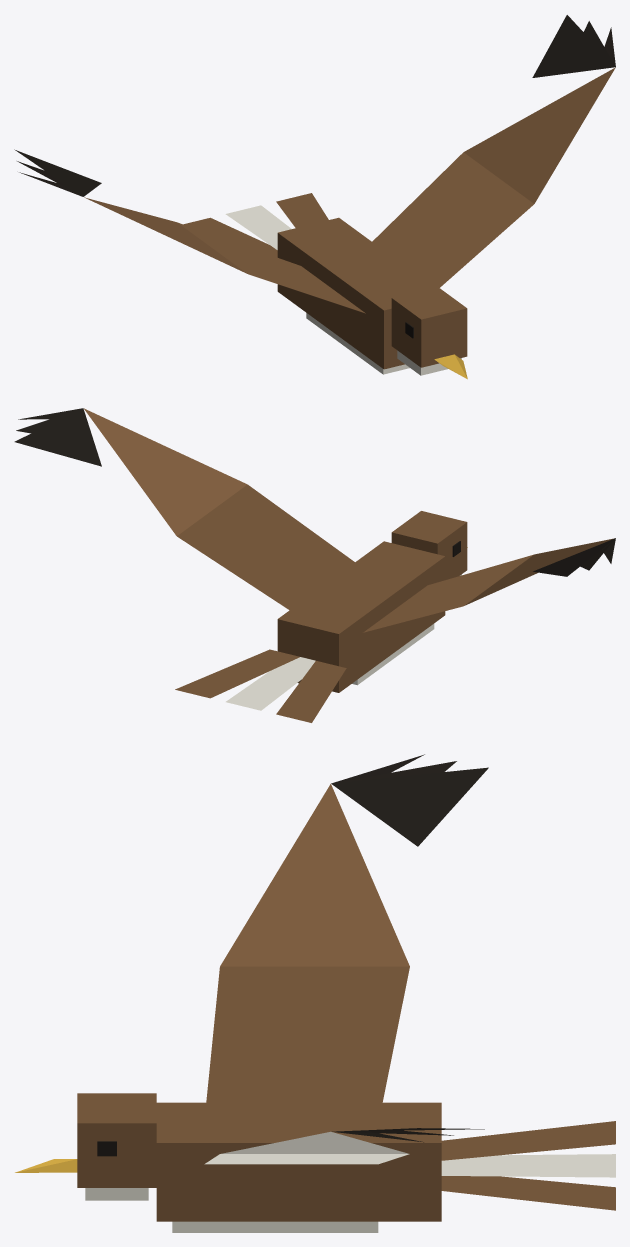
The model's file is hawk_up.glb.
3 views of the same model, one above another, from view 1: azimuth 30°, elevation 25°; view 2: azimuth 150°, elevation 25°; view 3: azimuth 270°, elevation 25° (orthographic). The views are drawn at different scales.
Parts seen in each view (by area): view 1: hawk_up; view 2: hawk_up; view 3: hawk_up.
Part boxes in pixels (x1,y1,x2,y2): hawk_up: (14,15,615,379); hawk_up: (14,408,615,722); hawk_up: (15,754,615,1232).
Size of the model in its own units: 1.16 by 0.373 by 0.76.
1 material, 1 textured.
